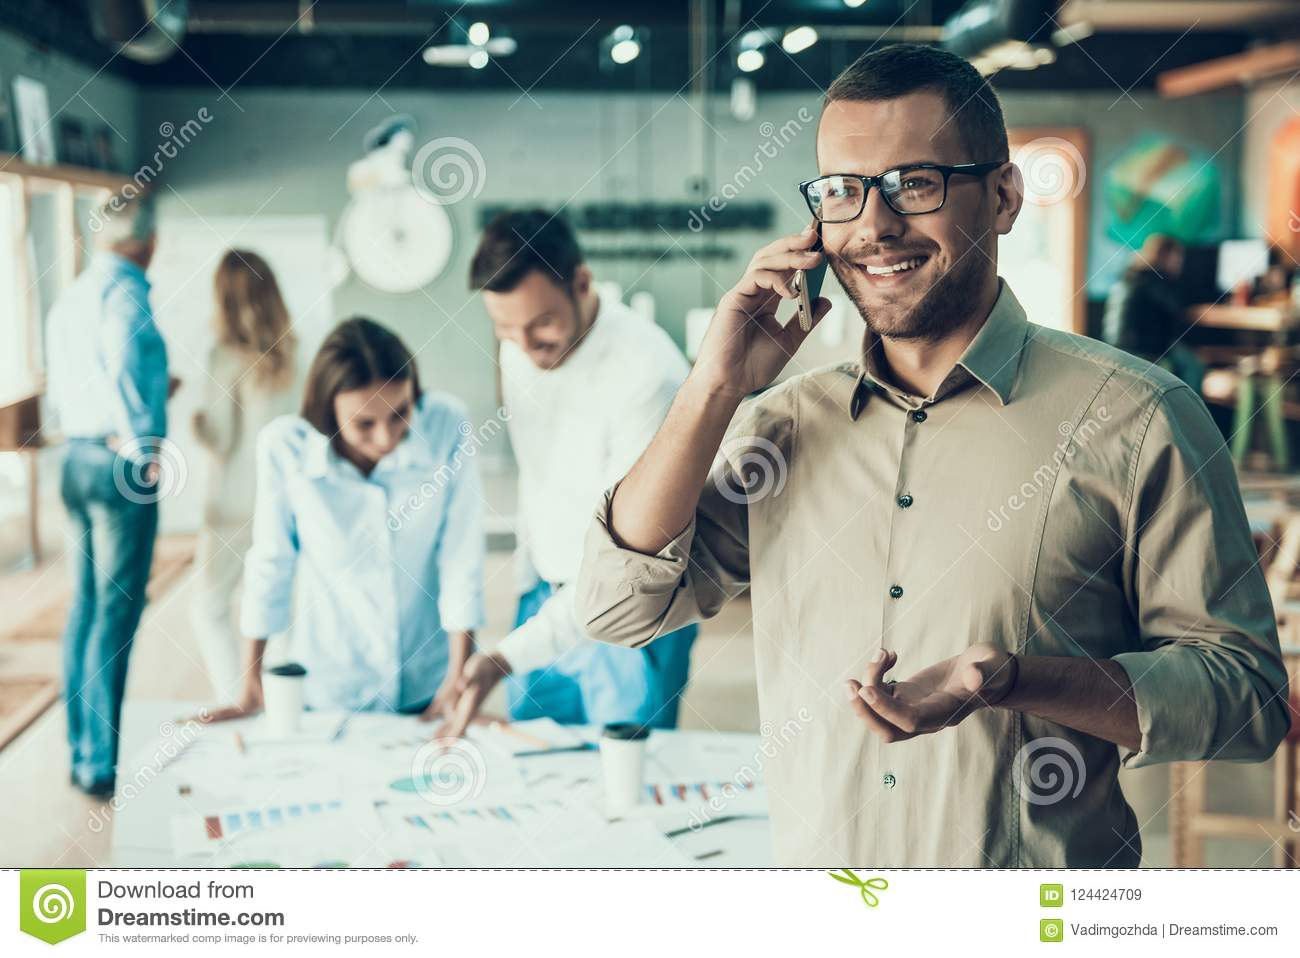phone: (797, 209, 833, 332)
talk: (705, 154, 957, 396)
